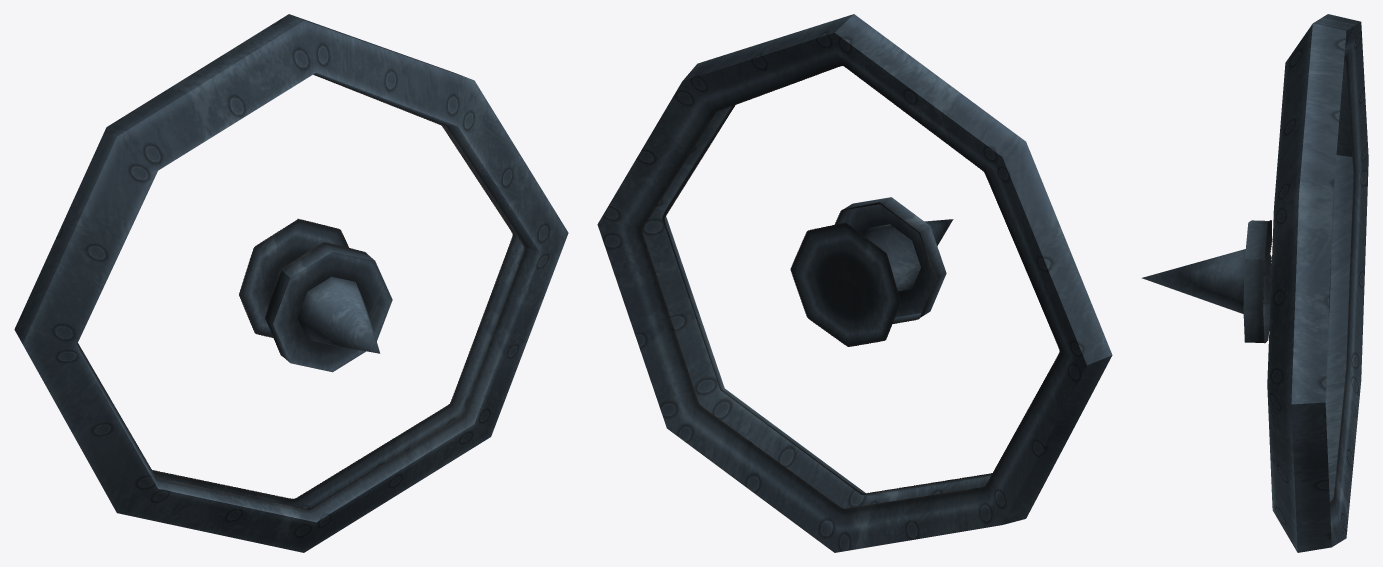
The model's file is shield02.FBX.
3 renders of one model, left to right at view 1: azimuth 30°, elevation 25°; view 2: azimuth 150°, elevation 25°; view 3: azimuth 270°, elevation 25°, orthographic. The views are drawn at different scales.
Visible parts, largest first — view 1: shield02; view 2: shield02; view 3: shield02.
Boxes of the visible parts, x1,y1,x2,y2 form: shield02: (14,14,568,552); shield02: (597,14,1112,552); shield02: (1142,14,1368,552).
Bounding box in the file's own units: 0.9874 × 0.3805 × 0.9602.
